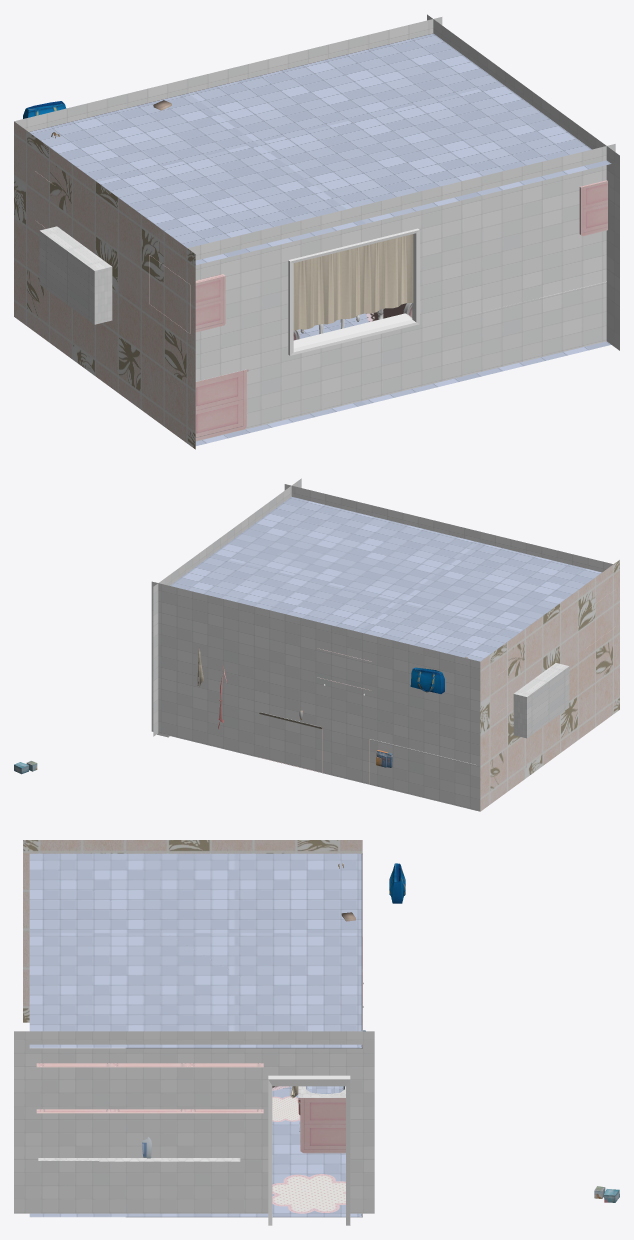
File: a_pink_kitchen_with_decor_free.glb
The picture shows the model from 3 angles, top to bottom: view 1: azimuth 30°, elevation 25°; view 2: azimuth 150°, elevation 25°; view 3: azimuth 270°, elevation 25°; orthographic projection. The views are drawn at different scales.
Visible parts, largest first — view 1: Plane.020, Plane.013, Plane.002, Cube.031, Plane.001, Plane.014, Cube, Plane.015, Cube.013, Plane, Cube.005, Cube.029; view 2: Plane.001, Plane.020, Plane.002, Plane.013, Cube, Plane.014, node_0.006_jn2_0; view 3: Plane.020, Plane.014, Plane.002, Plane, Cube.008, Plane.019, Cube.004, node_0.006_jn2_0, Cube.032, Cube.025, Cube.029, Plane.005 (+1 smaller).
Boxes of the visible parts, x1,y1,x2,y2 form: Plane.020: [29, 33, 611, 264]; Plane.013: [187, 144, 615, 441]; Plane.002: [14, 121, 195, 449]; Cube.031: [293, 234, 413, 330]; Plane.001: [14, 17, 442, 131]; Plane.014: [427, 14, 619, 350]; Cube: [39, 226, 112, 324]; Plane.015: [288, 228, 419, 355]; Cube.013: [195, 369, 248, 440]; Plane: [195, 313, 610, 445]; Cube.005: [149, 255, 225, 333]; Cube.029: [579, 180, 607, 236]; Plane.001: [151, 581, 480, 811]; Plane.020: [170, 496, 601, 661]; Plane.002: [480, 560, 619, 811]; Plane.013: [284, 484, 613, 572]; Cube: [513, 663, 569, 738]; Plane.014: [153, 478, 301, 736]; node_0.006_jn2_0: [14, 667, 444, 774]; Plane.020: [29, 853, 362, 1048]; Plane.014: [14, 1031, 374, 1213]; Plane.002: [23, 840, 362, 1022]; Plane: [29, 1086, 362, 1217]; Cube.008: [298, 1086, 345, 1153]; Plane.019: [272, 1174, 345, 1213]; Cube.004: [268, 1075, 350, 1225]; node_0.006_jn2_0: [142, 863, 619, 1202]; Cube.032: [187, 1063, 263, 1113]; Cube.025: [111, 1063, 187, 1113]; Cube.029: [36, 1063, 111, 1113]; Plane.005: [272, 1096, 300, 1121].
Bounding box in the file's own units: 17.74 × 7.07 × 20.35.
Materials: 6 (4 with a texture image).
